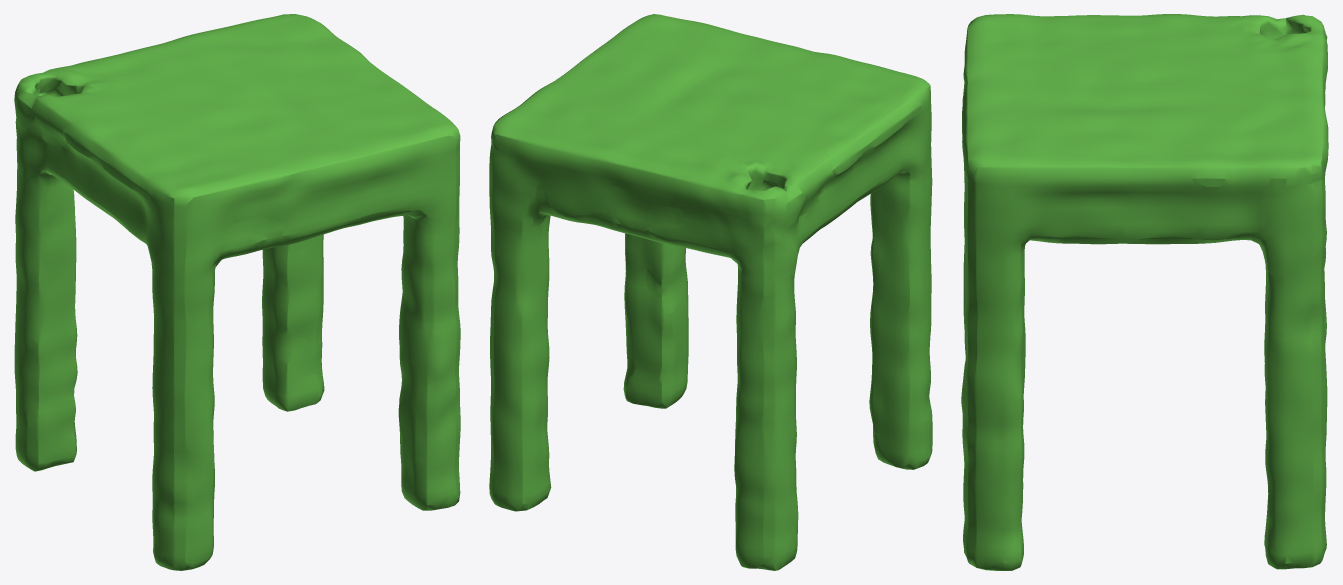
File: chair_4_3.obj
The picture shows the model from 3 angles, left to right: view 1: azimuth 30°, elevation 25°; view 2: azimuth 150°, elevation 25°; view 3: azimuth 270°, elevation 25°; orthographic projection. The views are drawn at different scales.
Bounding box in the file's own units: 0.663 × 0.8042 × 0.6496.
